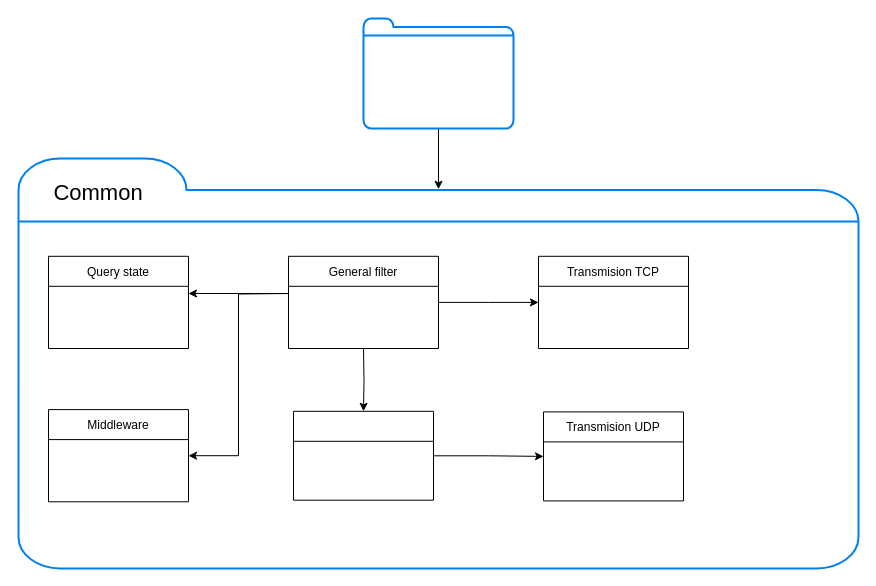
Image size: 876x586. Some labels were removed from this diagram. Each missing label, with the centre of its shape:
"Duplication filter" belongs at (438,73).
"Health check" belongs at (363,455).
